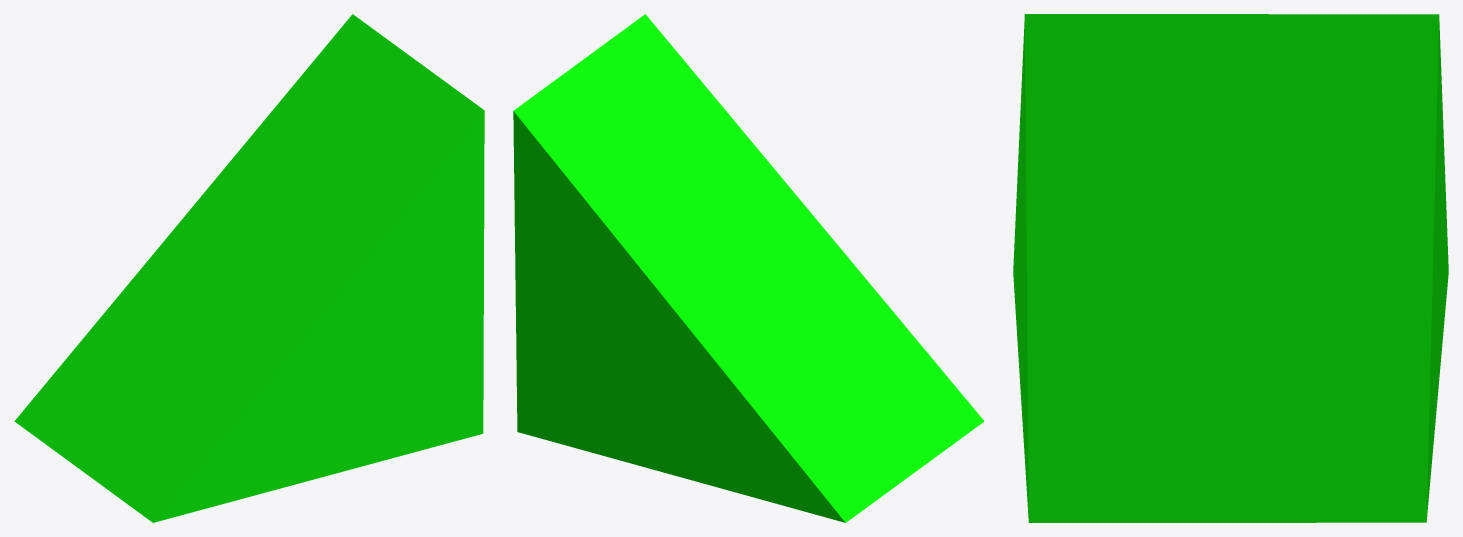
The model's file is SM_Wall_Beam_Horizontal_Mid_Out_A_End.fbx.
3 views of the same model, side by side, from view 1: azimuth 30°, elevation 25°; view 2: azimuth 150°, elevation 25°; view 3: azimuth 270°, elevation 25° (orthographic). The views are drawn at different scales.
Visible parts, largest first — view 1: wall-beam-horizontal-mid-out-a-end; view 2: wall-beam-horizontal-mid-out-a-end; view 3: wall-beam-horizontal-mid-out-a-end.
Boxes of the visible parts, x1=… form: wall-beam-horizontal-mid-out-a-end: x1=14, y1=14, x2=484, y2=522; wall-beam-horizontal-mid-out-a-end: x1=513, y1=14, x2=984, y2=522; wall-beam-horizontal-mid-out-a-end: x1=1013, y1=14, x2=1448, y2=522.
Size of the model in its own units: 0.3081 by 0.2881 by 0.2209.
